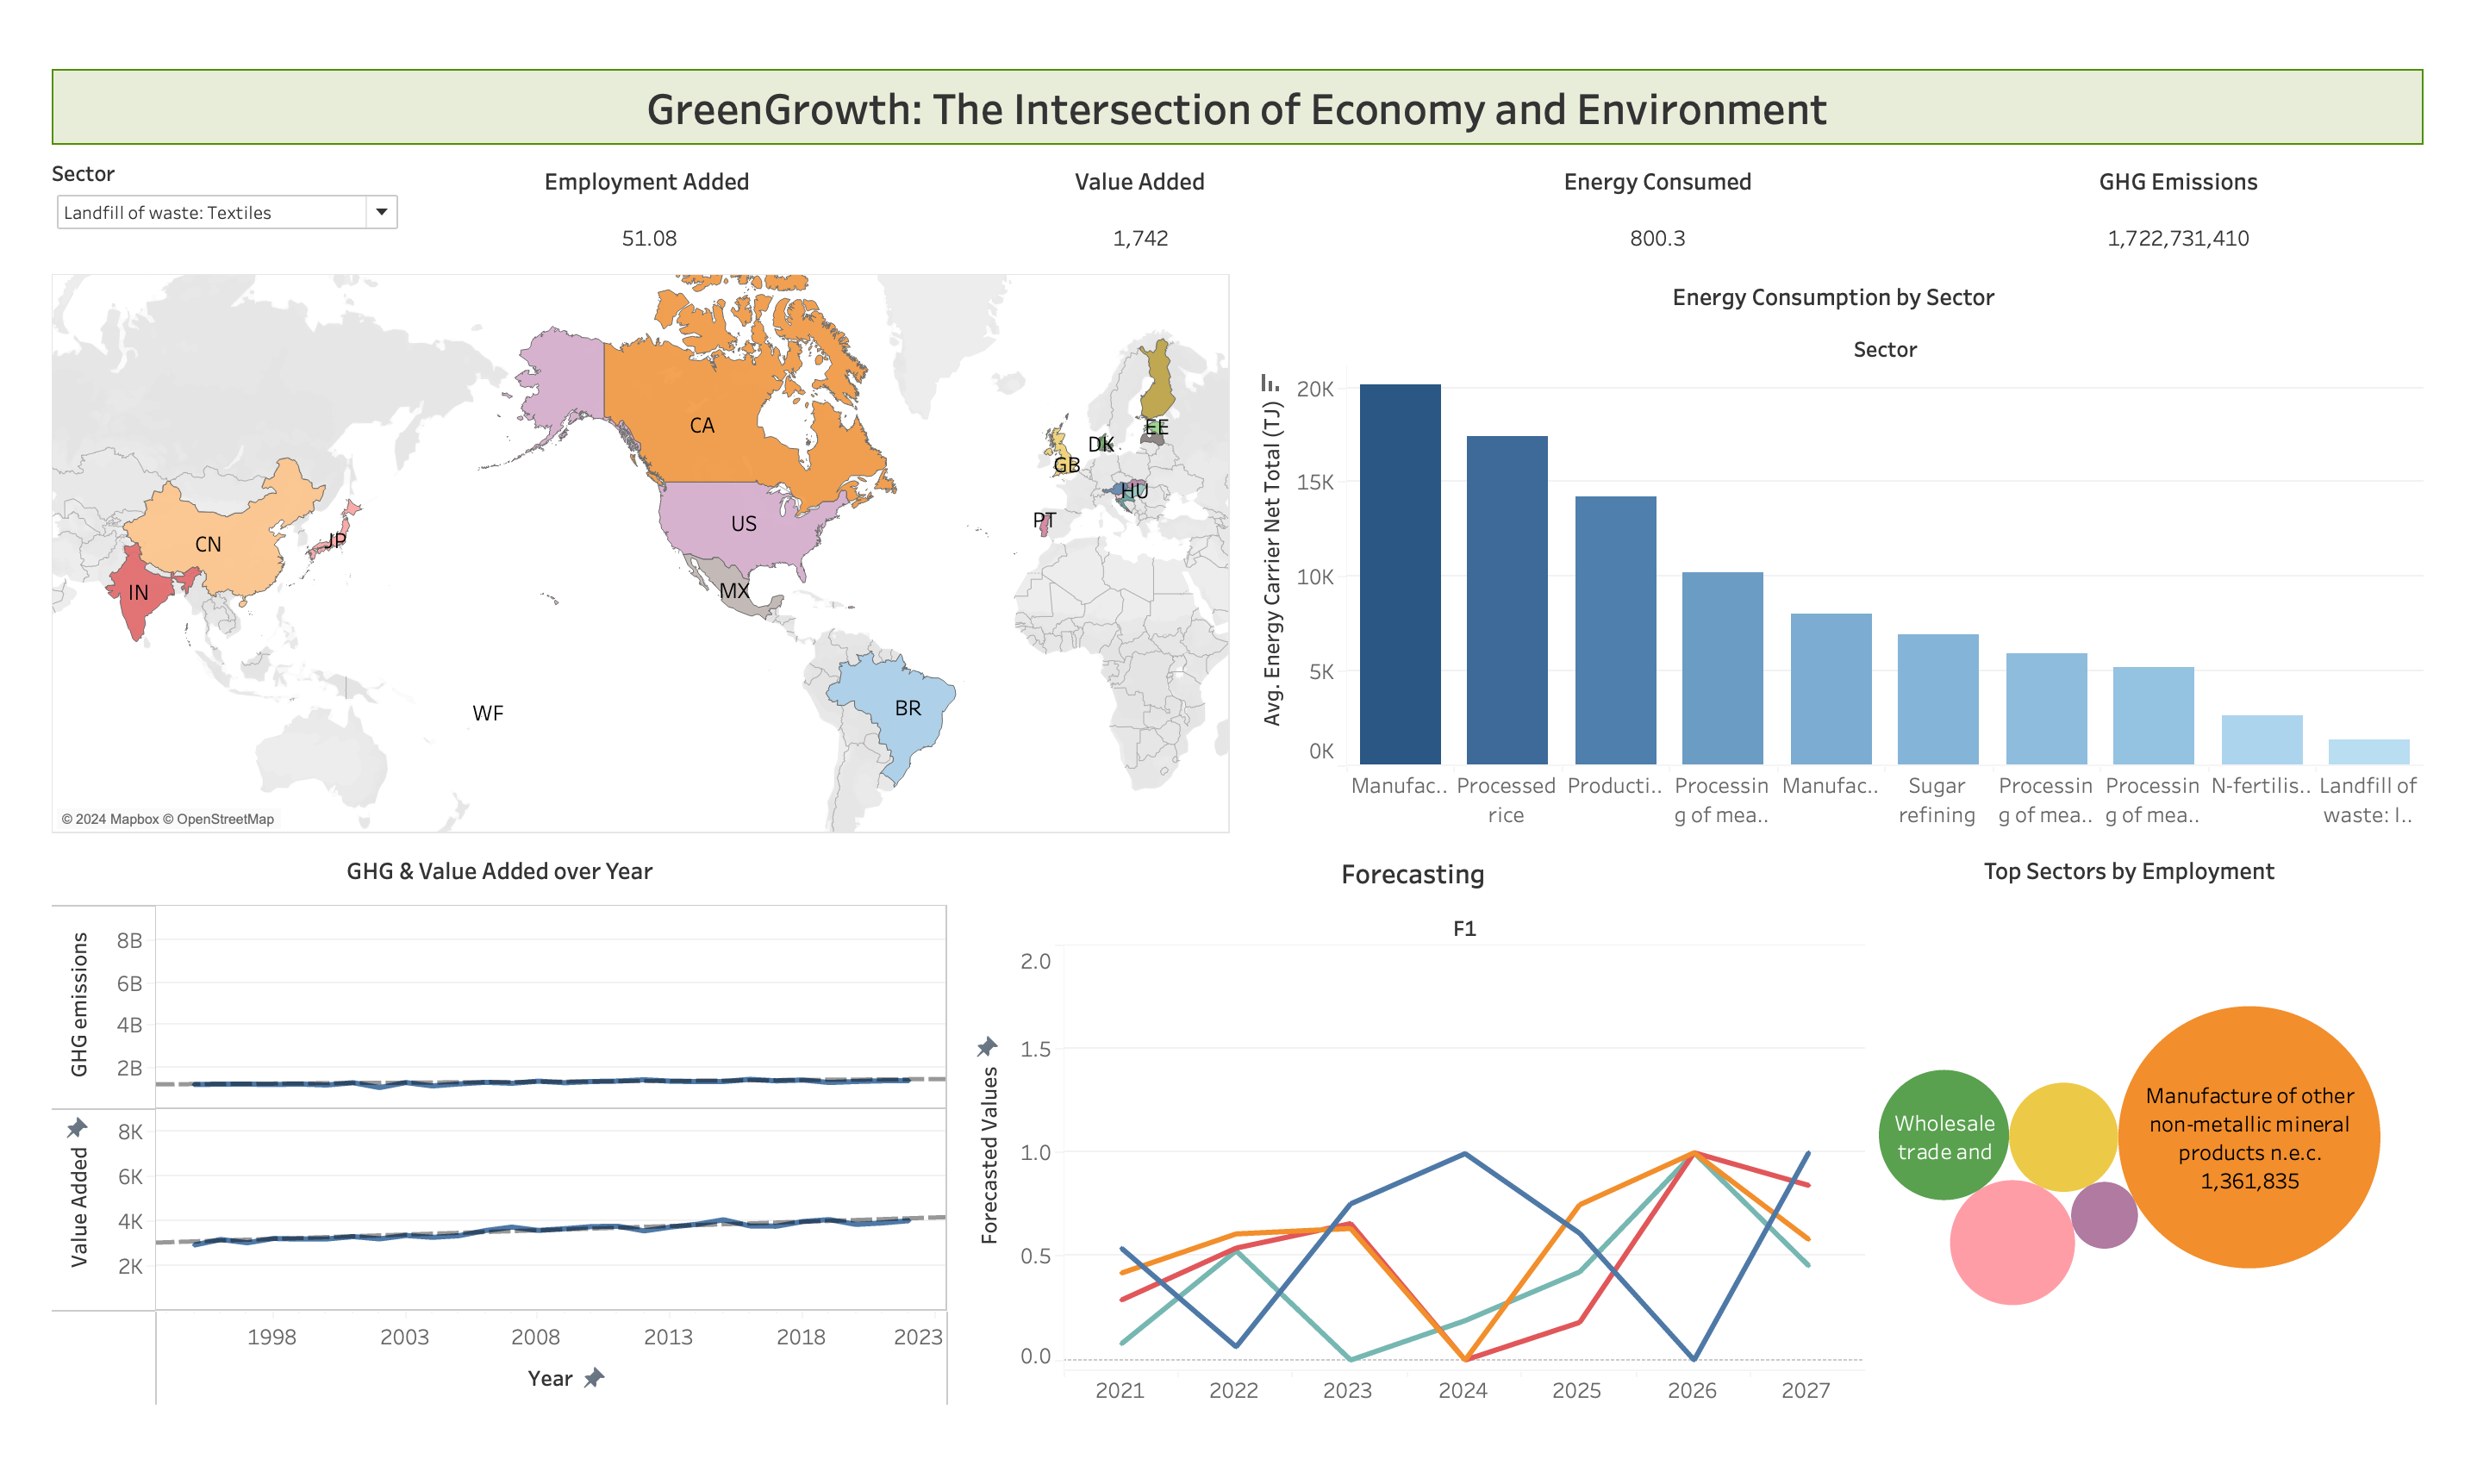

The page's visual inventory and layout, read from the dashboard file:
{"tool":"tableau","page":{"name":"Final Dashboard","canvas":[1400,800],"ordinal":0},"visuals":[{"type":"title","box":[8,8,1384,52]},{"type":"filter","title":"Emp added","param":"[federated.1l8p9tb0fput4w12gmgd50g7p8fq].[none:sector:nk]","box":[8,60,211.8,66.9]},{"type":"worksheet","title":"Emp added","mark":"Automatic","box":[219.8,60,278.4,66.9]},{"type":"worksheet","title":"Value Added","mark":"Automatic","box":[498.2,60,291.1,66.9]},{"type":"worksheet","title":"Energy Consumed","mark":"Automatic","box":[789.3,60,310.3,66.9]},{"type":"worksheet","title":"GHG Emissions","mark":"Automatic","box":[1099.5,60,292.5,66.9]},{"type":"worksheet","title":"Final Map","mark":"Multipolygon","box":[8,126.9,680,340.5]},{"type":"worksheet","title":"Energy carrier over Sector","mark":"Automatic","rows":["Energy Carrier Net Total (TJ)"],"cols":["sector"],"box":[688,126.9,704,340.5]},{"type":"worksheet","title":"GHG & Value Added over Year","mark":"Automatic","rows":["GHG emissions (kg CO2 eq.)","Value Added (M.EUR)"],"cols":["Year"],"box":[8,467.3,584.2,324.7]},{"type":"worksheet","title":"Forecasting","mark":"Automatic","rows":["Pivot Field Values"],"cols":["F1"],"box":[592.2,467.3,477.8,324.7]},{"type":"worksheet","title":"top 5 sectors by value added","mark":"Circle","box":[1070,467.3,322,324.7]}]}

Visuals, with their boxes on the page's 1400x800 design canvas (x1, y1, x2, y2). These are canvas units, not pixel positions in the 2477x1484 screenshot, which may show the page scaled, cropped or inside an application window:
title: 8:8:1392:60
"Emp added" filter: 8:60:220:127
"Emp added" worksheet: 220:60:498:127
"Value Added" worksheet: 498:60:789:127
"Energy Consumed" worksheet: 789:60:1100:127
"GHG Emissions" worksheet: 1100:60:1392:127
"Final Map" worksheet (Multipolygon marks): 8:127:688:467
"Energy carrier over Sector" worksheet: 688:127:1392:467
"GHG & Value Added over Year" worksheet: 8:467:592:792
"Forecasting" worksheet: 592:467:1070:792
"top 5 sectors by value added" worksheet (Circle marks): 1070:467:1392:792
